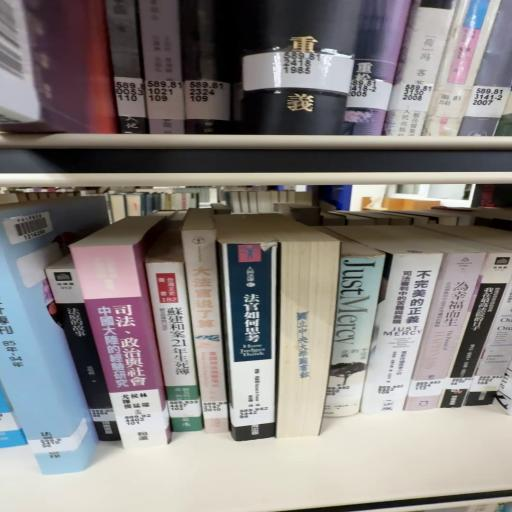backward: (278, 240, 344, 441)
book: (70, 211, 170, 451), (54, 253, 118, 444), (143, 232, 200, 440), (218, 244, 276, 444)
